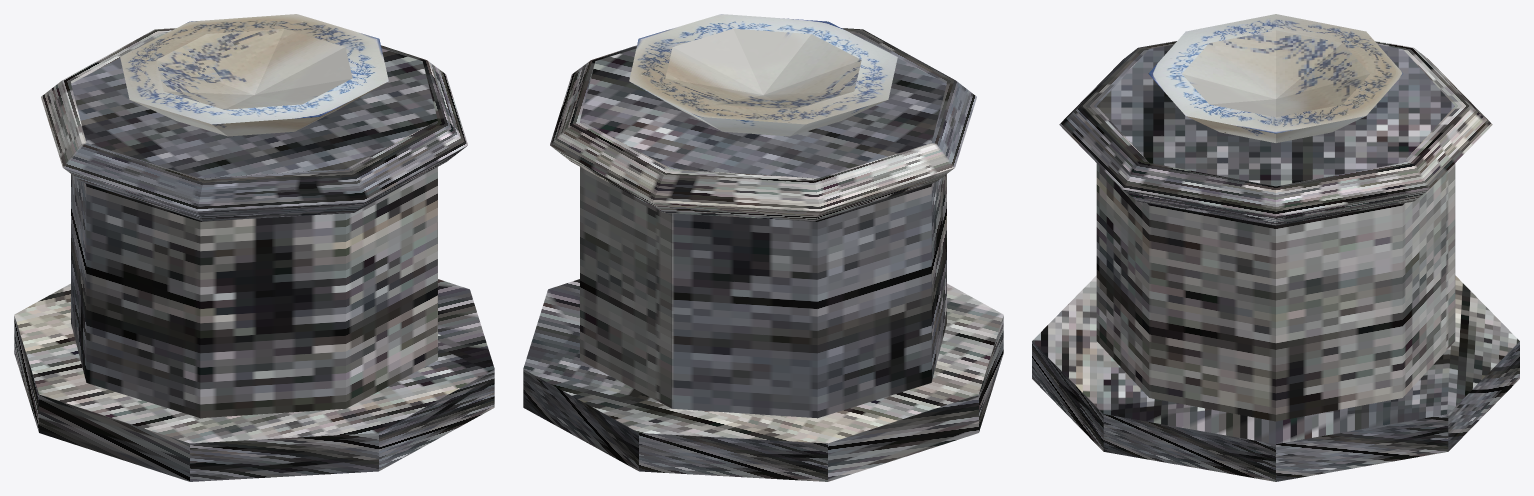
The model's file is pedestal.glb.
3 renders of one model, left to right at view 1: azimuth 30°, elevation 25°; view 2: azimuth 150°, elevation 25°; view 3: azimuth 270°, elevation 25°, orthographic.
Visible parts, largest first — view 1: Cylinder, chrupiaca, Cone, Torus; view 2: Cylinder, chrupiaca, Cone, Torus; view 3: Cylinder, chrupiaca, Cone, Torus.
Boxes of the visible parts, bbox=[...] form: Cylinder: bbox=[71, 48, 437, 418]; chrupiaca: bbox=[14, 279, 494, 481]; Cone: bbox=[120, 14, 388, 136]; Torus: bbox=[41, 28, 467, 221]; Cylinder: bbox=[580, 48, 946, 418]; chrupiaca: bbox=[523, 279, 1003, 481]; Cone: bbox=[629, 14, 897, 136]; Torus: bbox=[550, 28, 976, 221]; Cylinder: bbox=[1096, 44, 1455, 421]; chrupiaca: bbox=[1032, 275, 1519, 481]; Cone: bbox=[1148, 14, 1403, 142]; Torus: bbox=[1059, 41, 1492, 225].
Size of the model in its own units: 1.13 by 0.7817 by 1.13.
3 materials, 3 textured.
